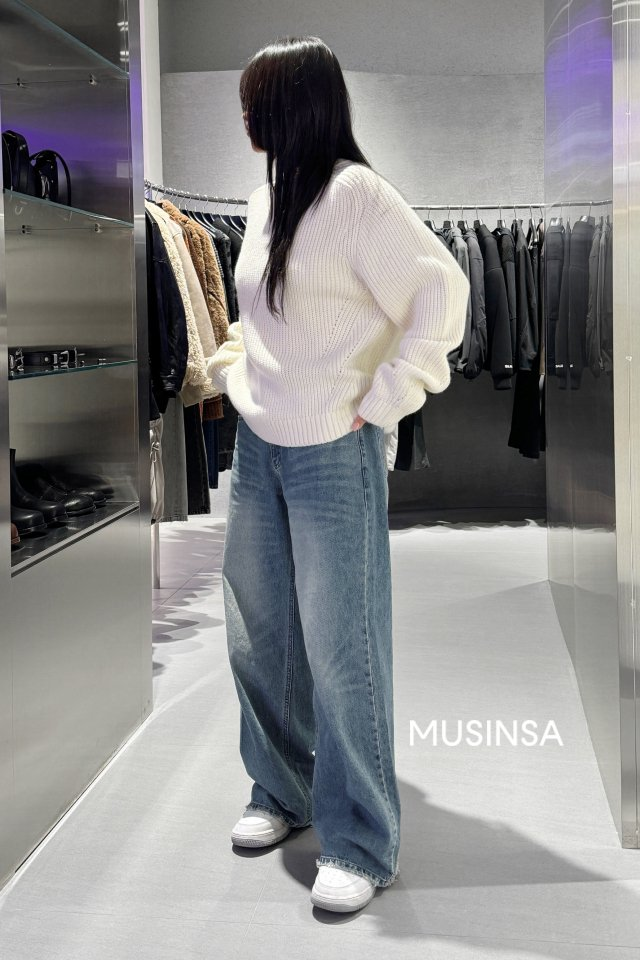Jeans: (218, 413, 407, 876)
Shoes: (232, 790, 392, 925)
Top: (203, 167, 472, 448)
